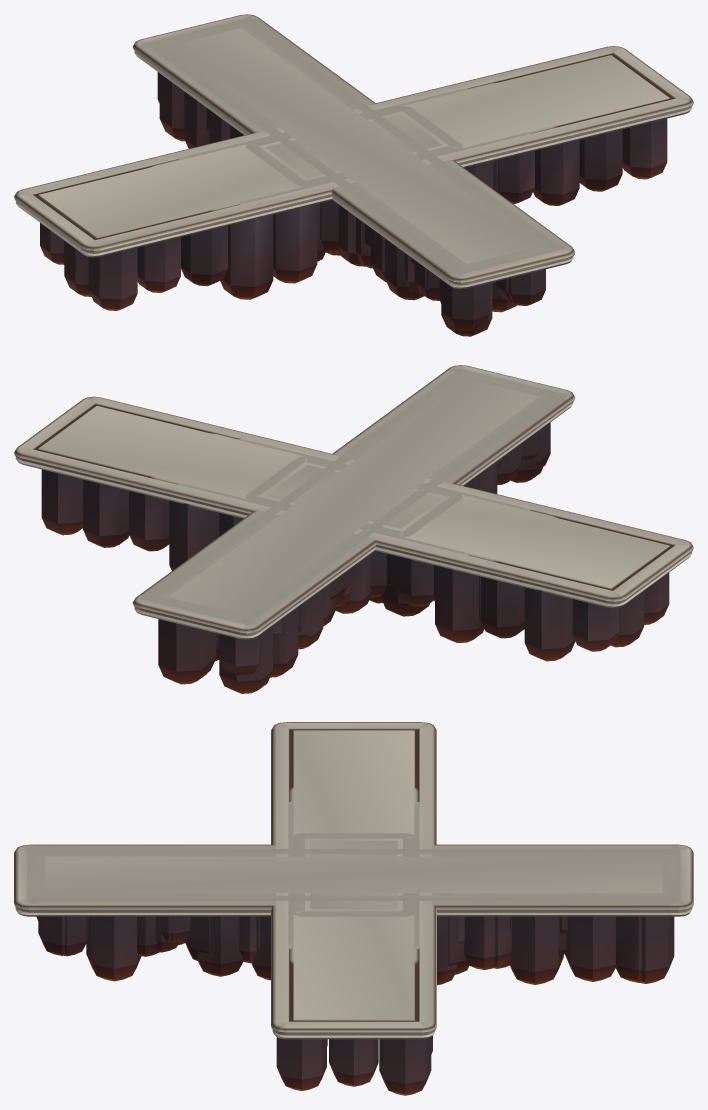
Rendered from volcano-3-VLeqe5sH.glb.
3 views of the same model, one above another, from view 1: azimuth 30°, elevation 25°; view 2: azimuth 150°, elevation 25°; view 3: azimuth 270°, elevation 25° (orthographic). The views are drawn at different scales.
Visible parts, largest first — view 1: block_44x2x10#1, block_8x2x40#0, block_9x2x40_grate#0, block_9x2x41#1, block_12.5x2x8#1, block_21.5x2x9#1, block_8x2x40_grate#1; view 2: block_44x2x10#1, block_8x2x40#0, block_9x2x40_grate#0, block_9x2x41#1, block_12.5x2x8#1, block_21.5x2x9#1; view 3: block_44x2x10#1, block_8x2x40#0, block_9x2x40_grate#0, block_9x2x41#1, block_12.5x2x8#1, block_8x2x30_grate#1, block_8x2x40_grate#1, block_21.5x2x9#1.
Part boxes in pixels (x1,y1,x2,y2): block_44x2x10#1: (14,46,693,310); block_8x2x40#0: (148,19,559,301); block_9x2x40_grate#0: (138,18,567,304); block_9x2x41#1: (132,14,575,330); block_12.5x2x8#1: (245,106,462,186); block_21.5x2x9#1: (176,88,530,261); block_8x2x40_grate#1: (356,217,492,336); block_44x2x10#1: (14,396,693,661); block_8x2x40#0: (148,370,559,629); block_9x2x40_grate#0: (140,368,569,693); block_9x2x41#1: (132,365,575,684); block_12.5x2x8#1: (245,456,462,537); block_21.5x2x9#1: (177,438,531,616); block_44x2x10#1: (271,722,436,1095); block_8x2x40#0: (27,849,680,974); block_9x2x40_grate#0: (27,844,680,984); block_9x2x41#1: (14,844,693,985); block_12.5x2x8#1: (292,833,415,916); block_8x2x30_grate#1: (110,854,597,963); block_8x2x40_grate#1: (156,916,511,965); block_21.5x2x9#1: (288,801,419,949).
Bounding box in the file's own units: 44 × 6.84 × 41.
